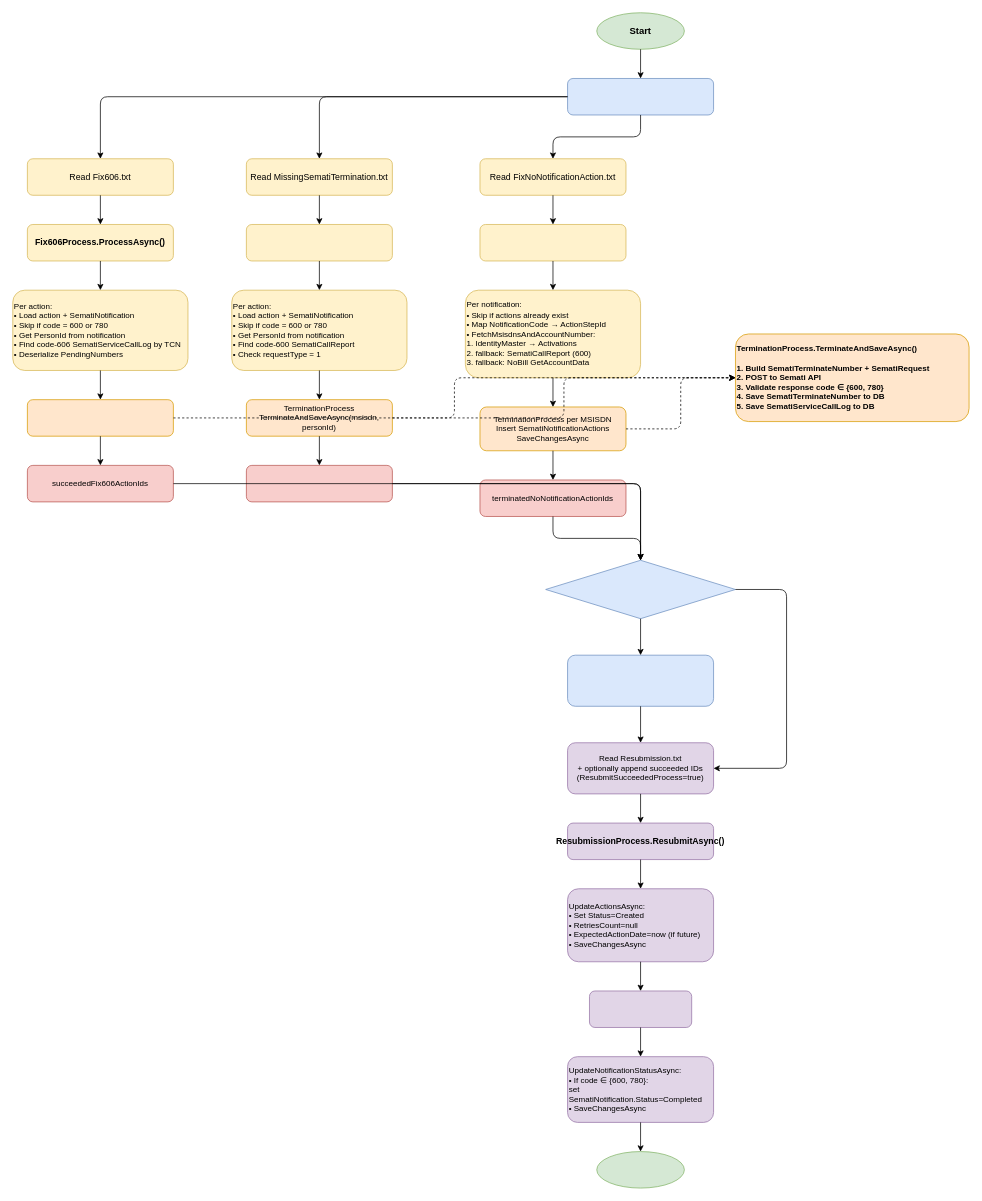
This 982x1201 diagram has some shape labels left out. The shapes that lost their labels are listed below. From the top down, each one's centre as x and y in pixels, then its label:
At point 640,96: "Orchestrator.RunAsync()".
At point 319,242: "MissingSematiTermination.ProcessAsync()".
At point 552,242: "FixNoNotificationActionProcess.TerminateAsync()".
At point 100,417: "TerminationProcess per pending number".
At point 319,483: "succeededMissingSematiActionIds".
At point 640,589: "Any succeeded IDs? (+ RunExtractSematiCallReportJob=true)".
At point 640,680: "Run SQL Agent Job 'ExtractSematiCallReport' (timeout 20 min, poll 20s)".
At point 640,1008: "Wait 20 seconds".
At point 640,1169: "End".
